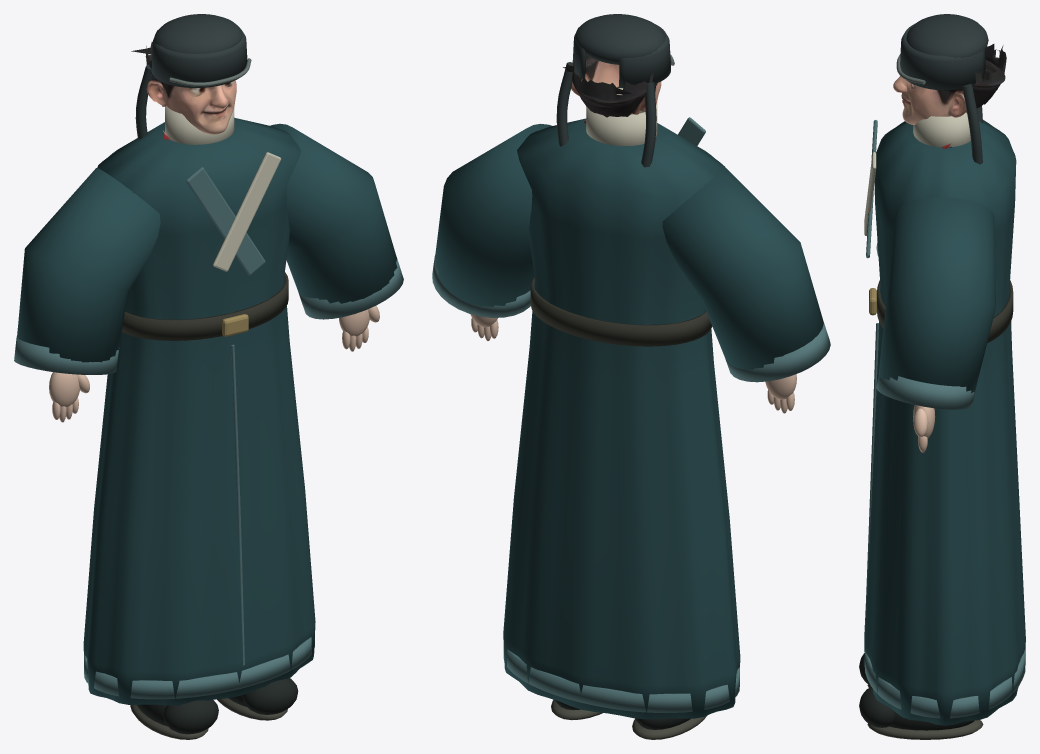
The model's file is liangmian.glb.
The picture shows the model from 3 angles, left to right: view 1: azimuth 30°, elevation 25°; view 2: azimuth 150°, elevation 25°; view 3: azimuth 270°, elevation 25°; orthographic projection. The views are drawn at different scales.
Visible parts, largest first — view 1: liangmian; view 2: liangmian; view 3: liangmian.
Boxes of the visible parts, bbox=[...] form: liangmian: bbox=[14, 14, 403, 739]; liangmian: bbox=[432, 14, 830, 739]; liangmian: bbox=[859, 14, 1025, 739].
Size of the model in its own units: 1 by 1.73 by 0.3795.
Materials: 11 (1 with a texture image).
